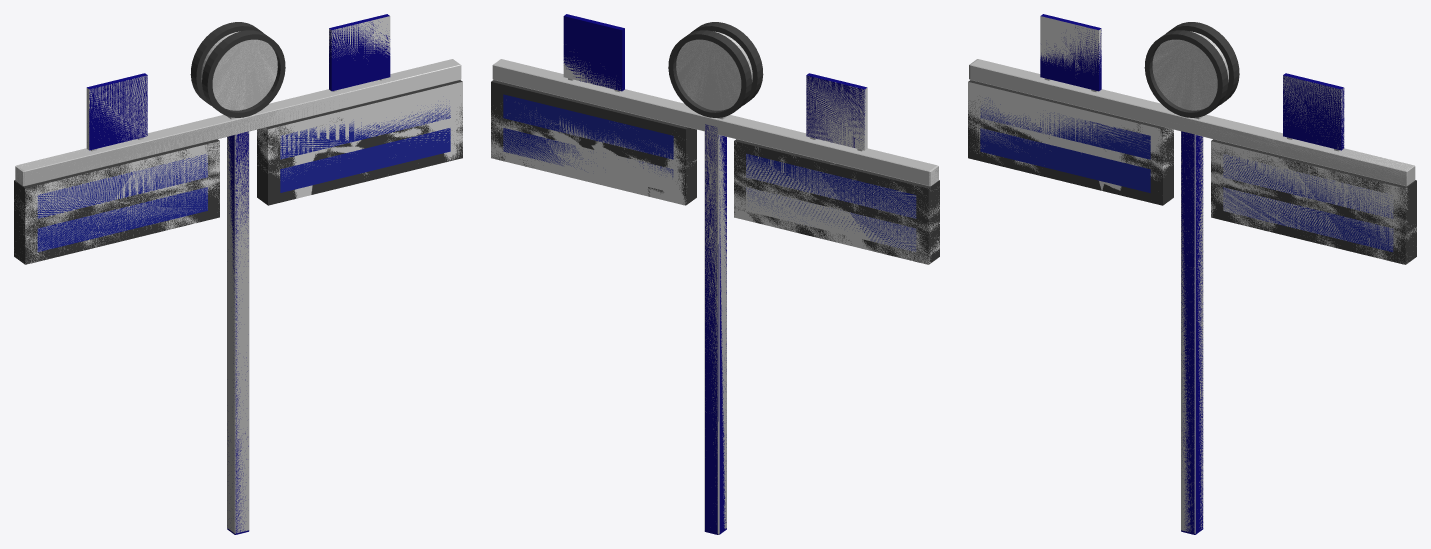
File: zuganzeige.fbx
3 views of the same model, side by side, from view 1: azimuth 30°, elevation 25°; view 2: azimuth 150°, elevation 25°; view 3: azimuth 330°, elevation 25° (orthographic).
Visible parts, largest first — view 1: RestZuganzeige, Würfel.001, Zuganzeige innen, Zuganzeige außen, Zuganzeige innen.001, Würfel.003, Zuganzeige außen.001, Cube, Nummer L, Zylinder.003, Nummer R, Zylinder.001; view 2: RestZuganzeige, Cube, Zuganzeige außen, Zuganzeige innen.001, Würfel.001, Zuganzeige außen.001, Zuganzeige innen, Nummer R, Zylinder.003, Zylinder.001, Nummer L, Würfel.003; view 3: RestZuganzeige, Cube, Würfel.003, Zuganzeige außen.001, Zuganzeige innen, Zuganzeige innen.001, Zuganzeige außen, Würfel.001, Nummer R, Zylinder.003, Zylinder.001, Nummer L.
Boxes of the visible parts, <box> form: RestZuganzeige: <box>14,16,462,264</box>; Würfel.001: <box>227,131,249,533</box>; Zuganzeige innen: <box>37,154,207,252</box>; Zuganzeige außen: <box>14,139,219,264</box>; Zuganzeige innen.001: <box>280,104,450,192</box>; Würfel.003: <box>15,59,460,186</box>; Zuganzeige außen.001: <box>257,80,462,205</box>; Cube: <box>17,81,382,534</box>; Nummer L: <box>87,73,147,150</box>; Zylinder.003: <box>201,31,277,110</box>; Nummer R: <box>329,14,390,91</box>; Zylinder.001: <box>190,22,285,117</box>; RestZuganzeige: <box>491,32,939,264</box>; Cube: <box>494,66,936,534</box>; Zuganzeige außen: <box>734,139,939,264</box>; Zuganzeige innen.001: <box>503,94,673,177</box>; Würfel.001: <box>704,125,726,534</box>; Zuganzeige außen.001: <box>491,80,696,204</box>; Zuganzeige innen: <box>746,153,916,251</box>; Nummer R: <box>563,14,624,91</box>; Zylinder.003: <box>676,31,752,110</box>; Zylinder.001: <box>668,22,763,117</box>; Nummer L: <box>806,73,866,147</box>; Würfel.003: <box>492,59,938,184</box>; RestZuganzeige: <box>968,16,1416,264</box>; Cube: <box>1039,75,1415,534</box>; Würfel.003: <box>969,59,1414,185</box>; Zuganzeige außen.001: <box>1211,139,1416,264</box>; Zuganzeige innen: <box>980,97,1150,192</box>; Zuganzeige innen.001: <box>1223,154,1393,252</box>; Zuganzeige außen: <box>968,80,1173,205</box>; Würfel.001: <box>1181,131,1203,533</box>; Nummer R: <box>1283,73,1344,150</box>; Zylinder.003: <box>1152,31,1228,110</box>; Zylinder.001: <box>1144,22,1239,117</box>; Nummer L: <box>1040,14,1101,91</box>.
Bounding box in the file's own units: 450 × 492 × 30.
